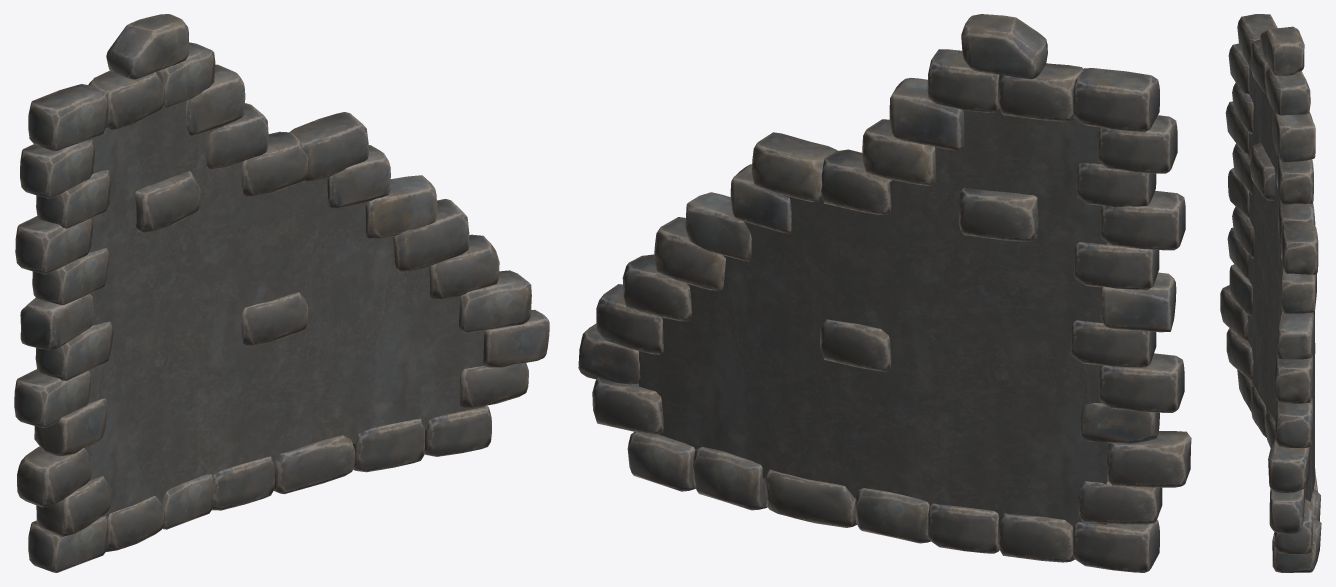
File: wall.fbx
3 renders of one model, left to right at view 1: azimuth 30°, elevation 25°; view 2: azimuth 150°, elevation 25°; view 3: azimuth 270°, elevation 25°, orthographic. The views are drawn at different scales.
Visible parts, largest first — view 1: blocks_019, Object053; view 2: Object053, blocks_019; view 3: blocks_019, Object053.
Part boxes in pixels (bbox=[...]): blocks_019: bbox=[14, 14, 549, 572]; Object053: bbox=[84, 101, 484, 517]; Object053: bbox=[639, 108, 1107, 530]; blocks_019: bbox=[578, 14, 1191, 572]; blocks_019: bbox=[1220, 14, 1321, 572]; Object053: bbox=[1247, 64, 1314, 501].
Size of the model in its own units: 780 by 687 by 153.
